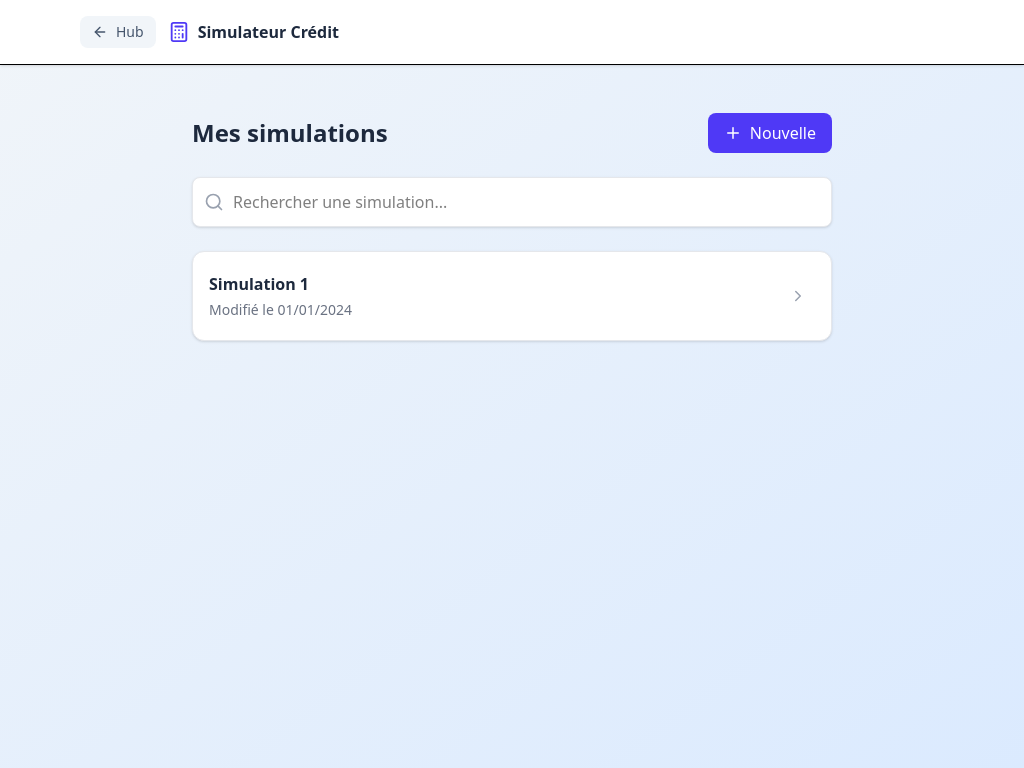
Test: CreditApp - Page d'accueil › affiche le formulaire de création
The image size is (1024, 768).
Click the button "Nouvelle" at [770, 133], box [708,113,832,153]
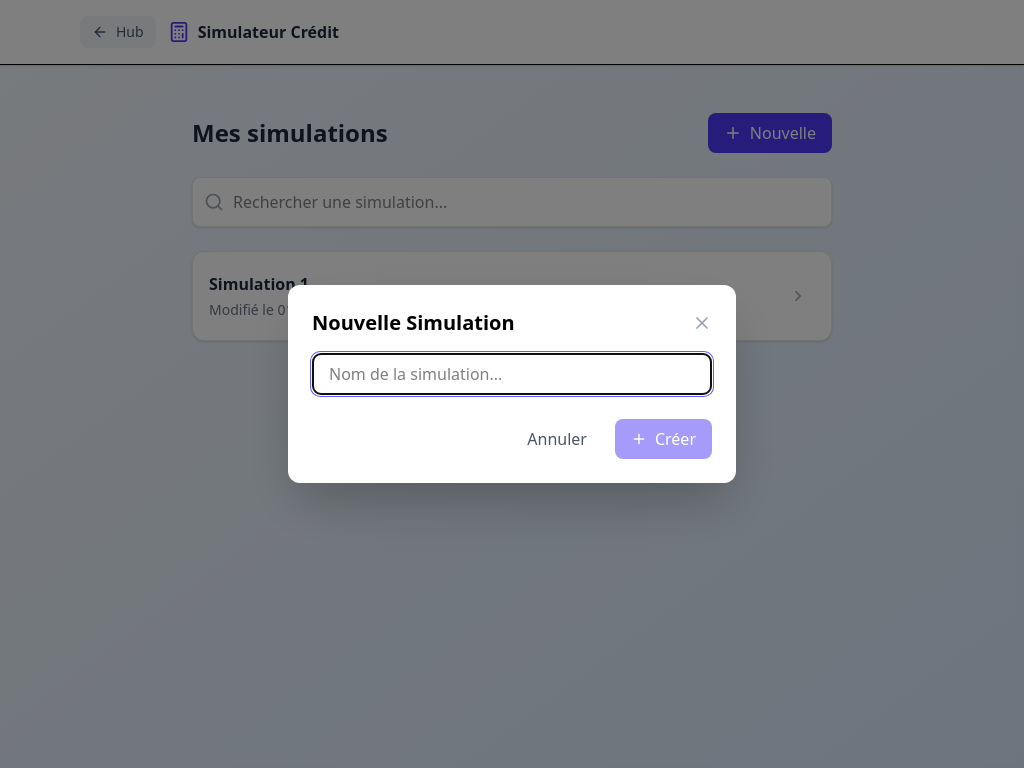
expect the heading "Nouvelle Simulation" is shown: met, box [312,309,515,337]
